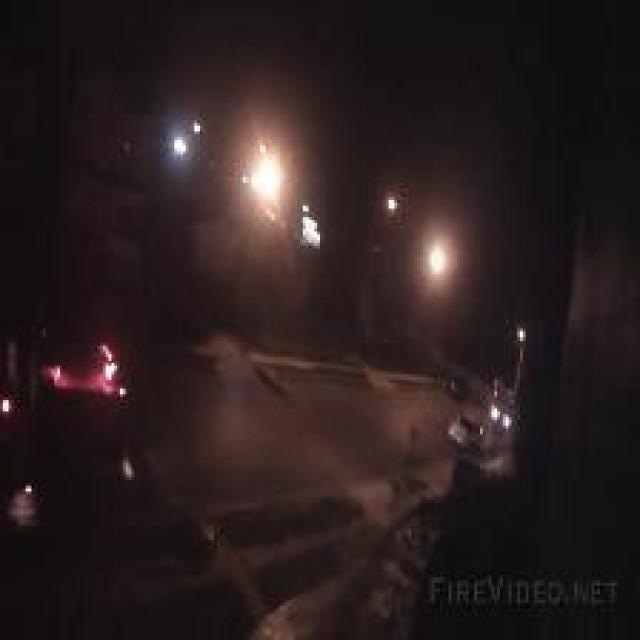other: (35, 324, 148, 406), (233, 134, 291, 207), (150, 98, 208, 164), (410, 227, 456, 295)
